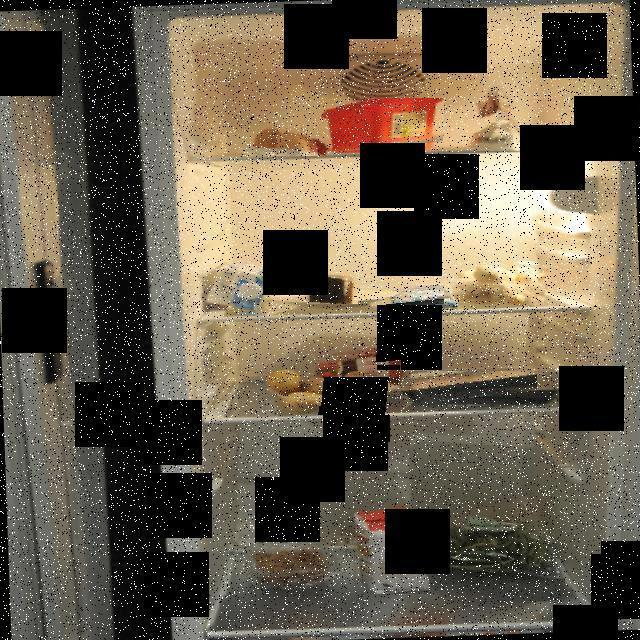butter: (321, 98, 445, 154)
cheese: (305, 272, 359, 304)
chicken_breast: (395, 371, 537, 406)
chocolate: (379, 285, 452, 310)
egg: (252, 122, 329, 156)
flour: (460, 87, 532, 151)
green_beans: (422, 508, 565, 583)
milk: (197, 259, 279, 310)
mushrooms: (444, 258, 546, 305)
potato: (265, 365, 400, 415)
shrimp: (248, 544, 334, 590)
strawberries: (304, 348, 402, 392)
sugar: (349, 502, 429, 594)
